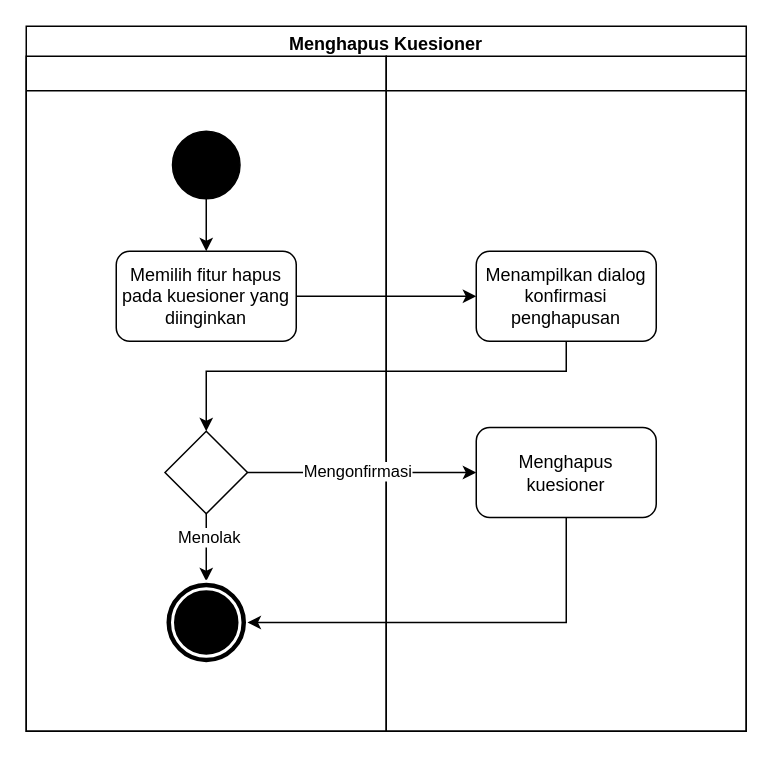
The diagram is 773 pixels wide and 758 high, and some of its shapes have lost their labels. The shapes that lost their labels are listed below. From the top down, each one's box as (x1, y1, x2, y2) in pixels, then its label:
(25, 55, 386, 731): Member
(385, 55, 746, 731): Sistem
